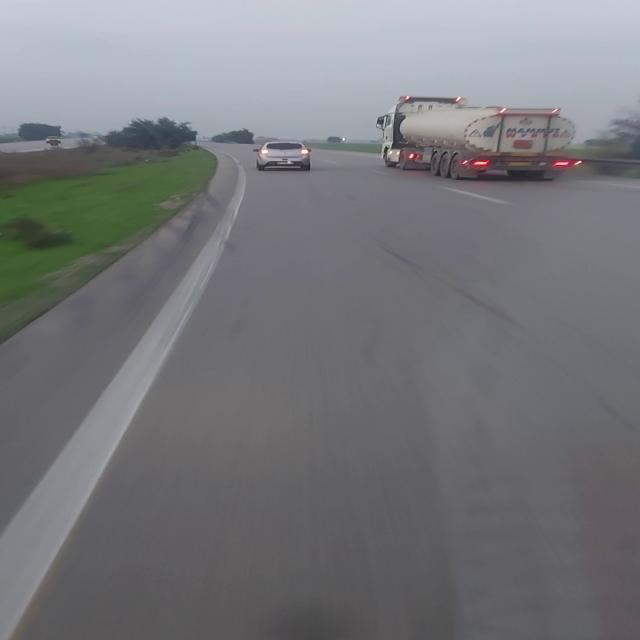Car: (252, 138, 317, 174)
Truck: (368, 92, 590, 187)
